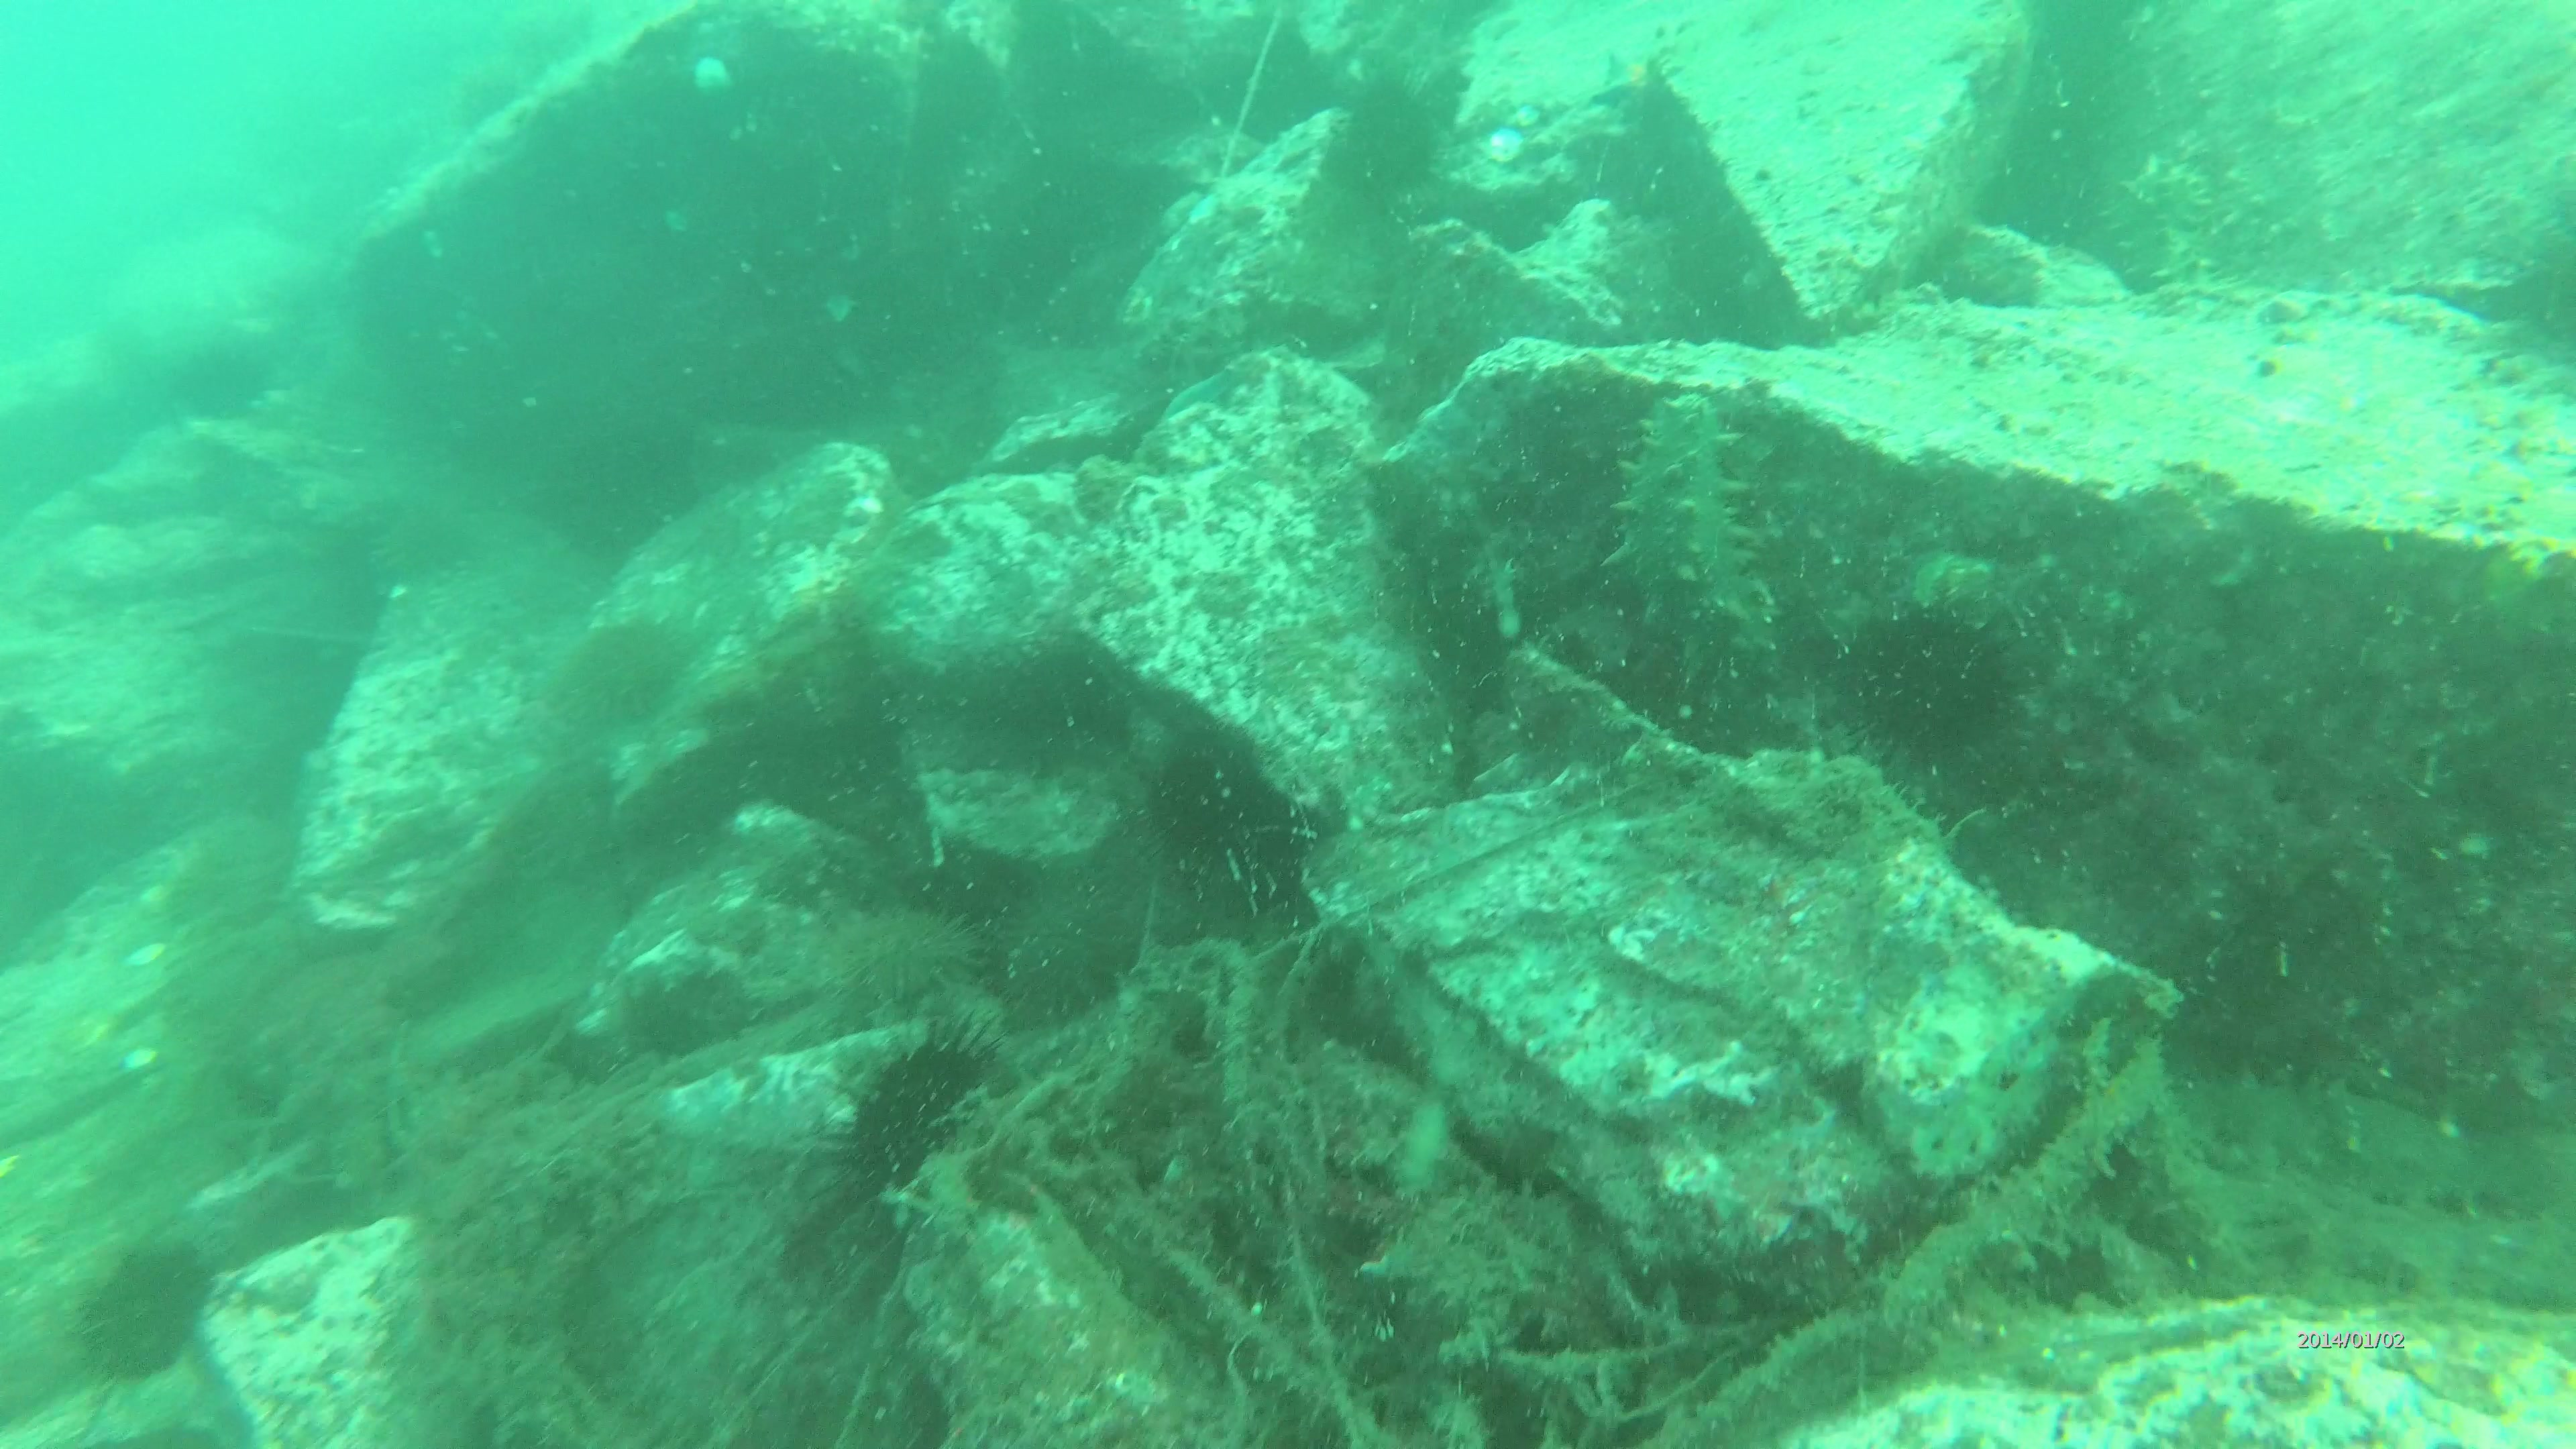echinus: (796, 1021, 1016, 1207), (1852, 579, 2033, 757), (69, 1238, 230, 1373), (548, 593, 702, 731), (791, 902, 984, 1010), (2496, 184, 2576, 370), (1003, 888, 1118, 1016), (1152, 731, 1270, 853), (1016, 639, 1111, 778)
holothurian: (1601, 389, 1790, 697)
starfish: (1585, 42, 1661, 111), (1453, 122, 1537, 180)
